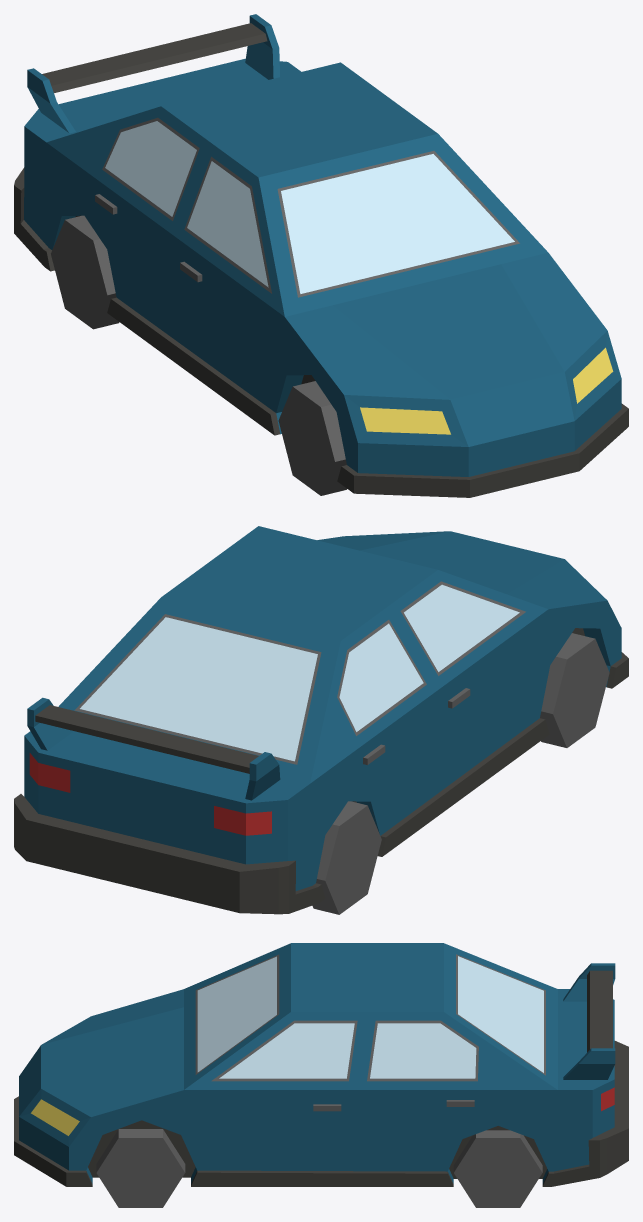
The model's file is easy3.glb.
The picture shows the model from 3 angles, top to bottom: view 1: azimuth 30°, elevation 25°; view 2: azimuth 150°, elevation 25°; view 3: azimuth 270°, elevation 25°; orthographic projection. The views are drawn at different scales.
Visible parts, largest first — view 1: Car_1_1; view 2: Car_1_1; view 3: Car_1_1.
Part boxes in pixels (left/top/right/bottom): Car_1_1: left=14, top=14, right=628, bottom=497; Car_1_1: left=14, top=526, right=628, bottom=914; Car_1_1: left=14, top=943, right=628, bottom=1207.
Bounding box in the file's own units: 2.98 × 2.35 × 7.36.
Materials: 1 (1 with a texture image).
